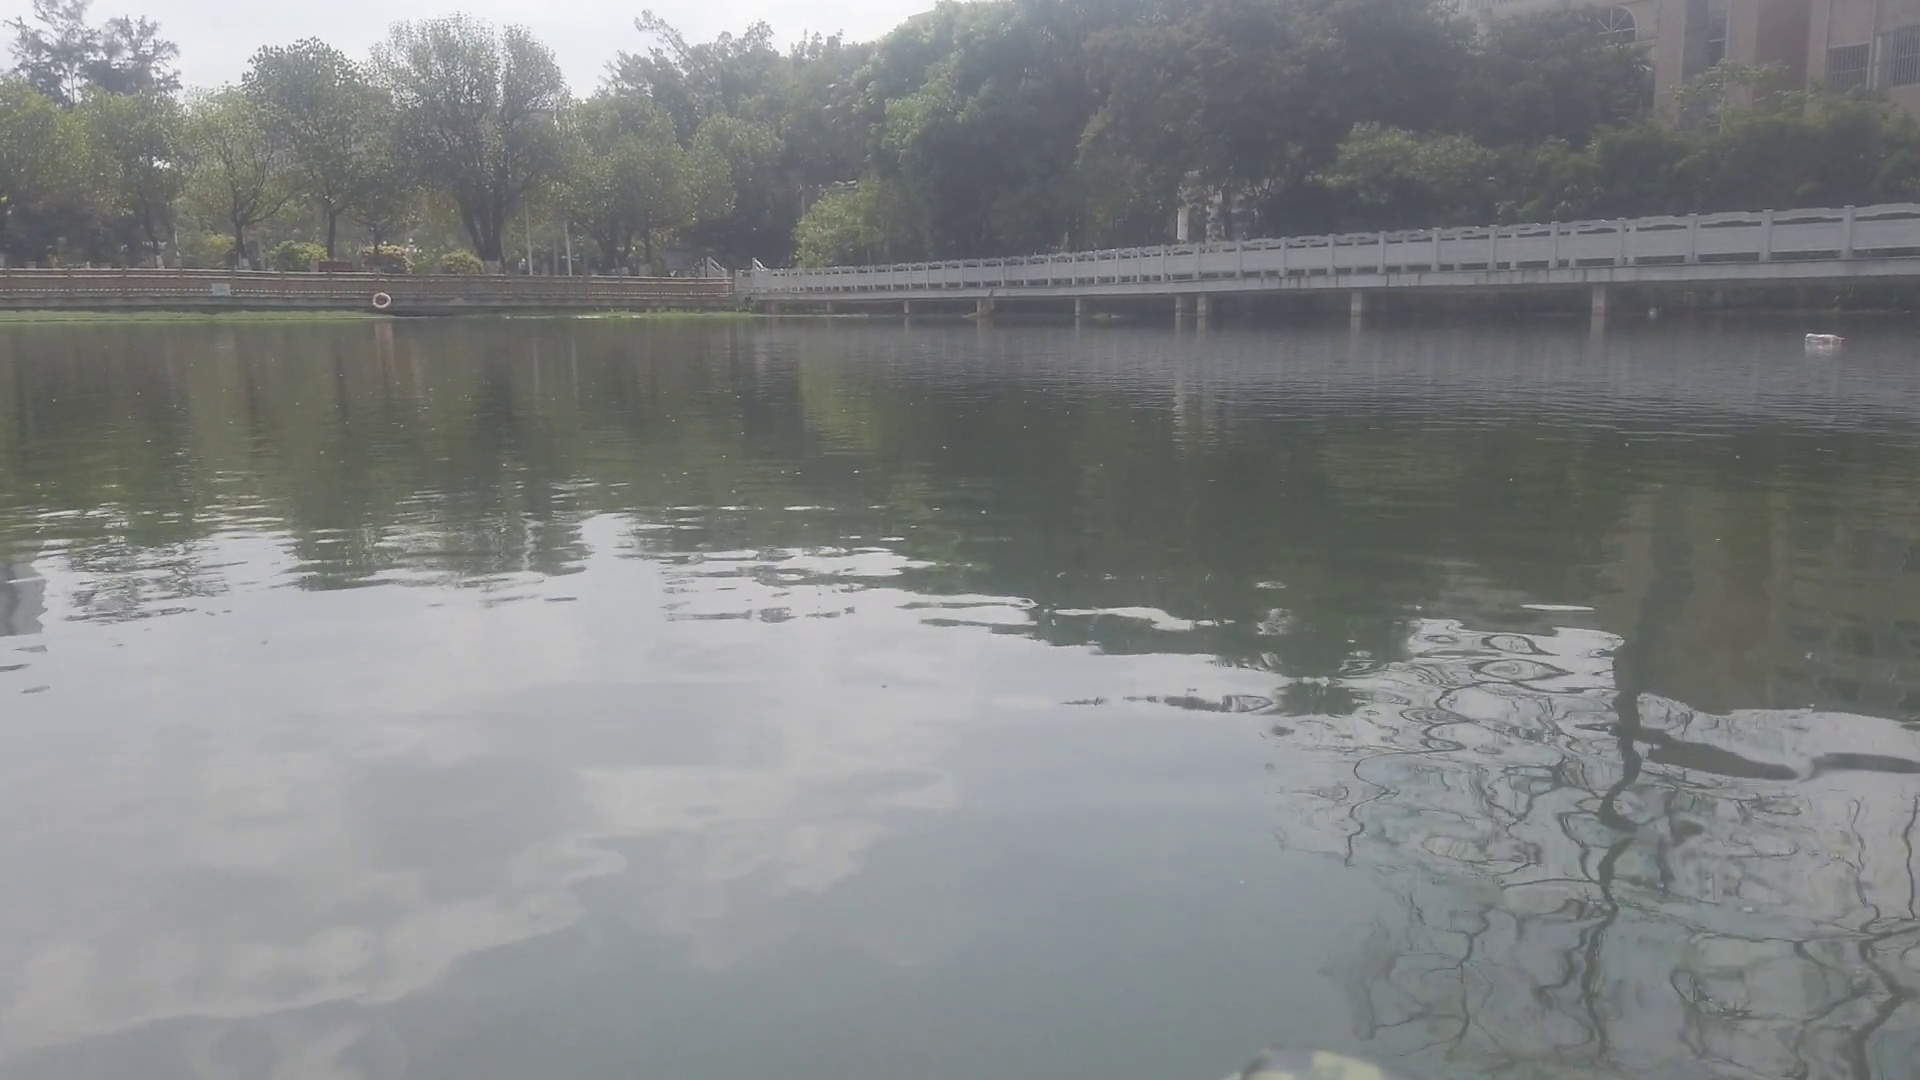bottle: (1801, 330, 1845, 345)
